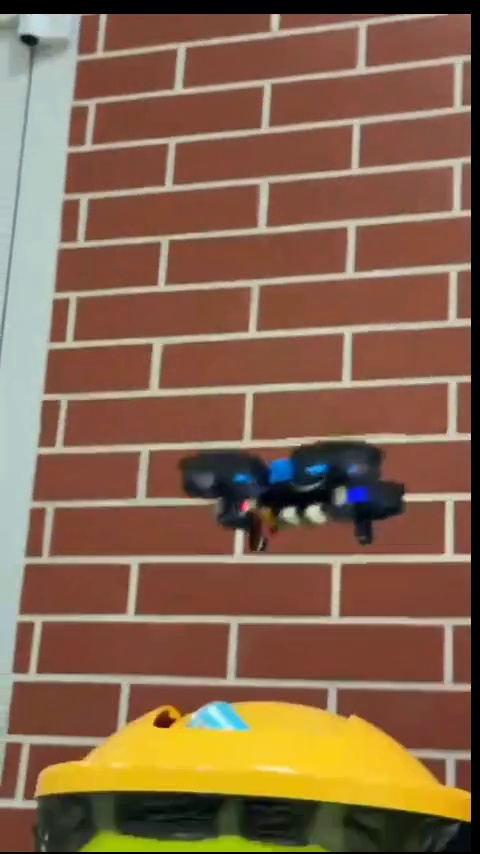drone: (177, 443, 411, 553)
